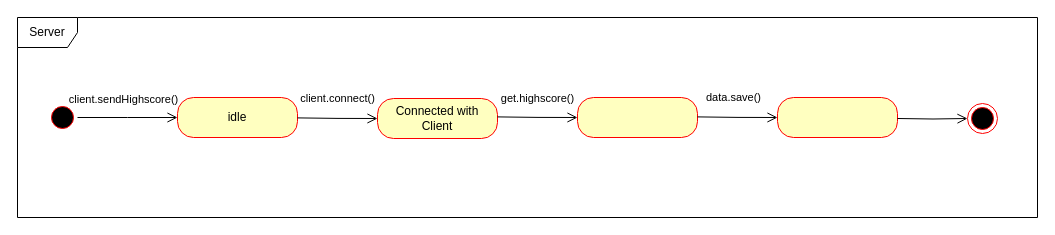
Image size: 1055x235. Some labels were removed from this diagram. The centre of each missing label's shape, as x and y in pixels:
"Get highscore" belongs at (x=637, y=117).
"Save highscore" belongs at (x=837, y=117).
